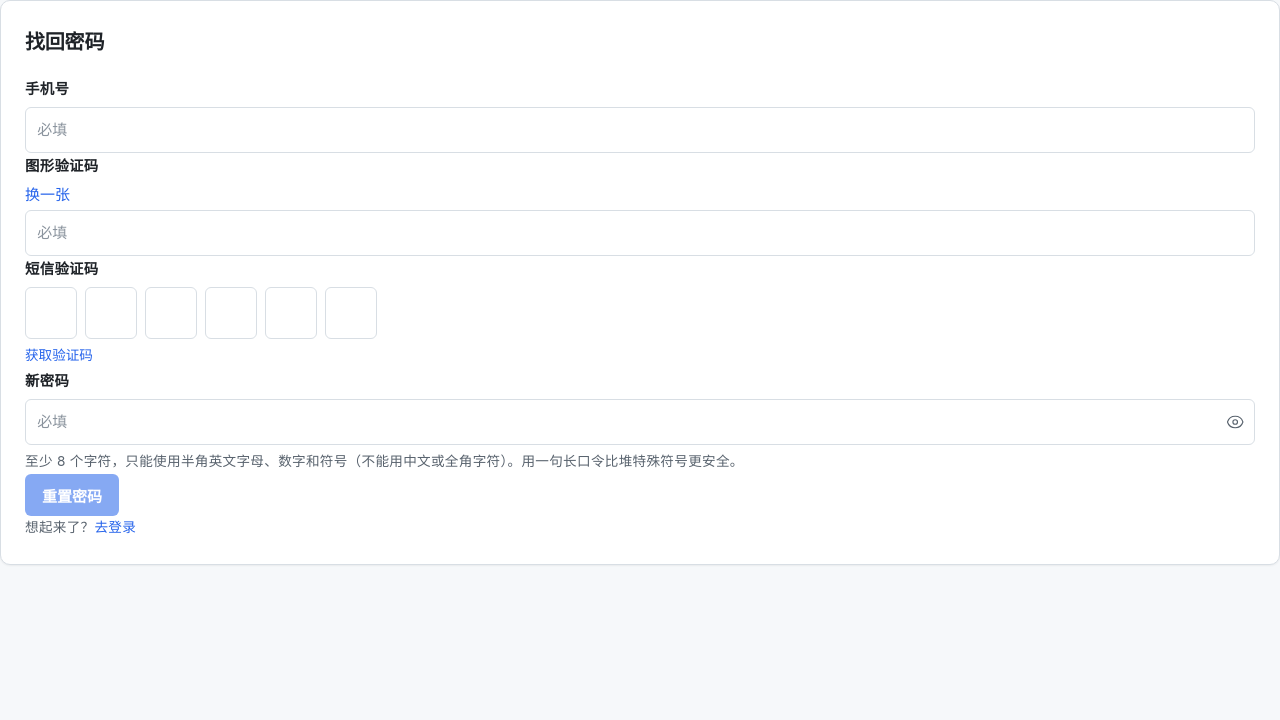
it: the reset page › leaves the reset button shut when the send was refused
In the field labelled "手机号": x=640, y=130 [25,107,1255,153], type "13800138000"
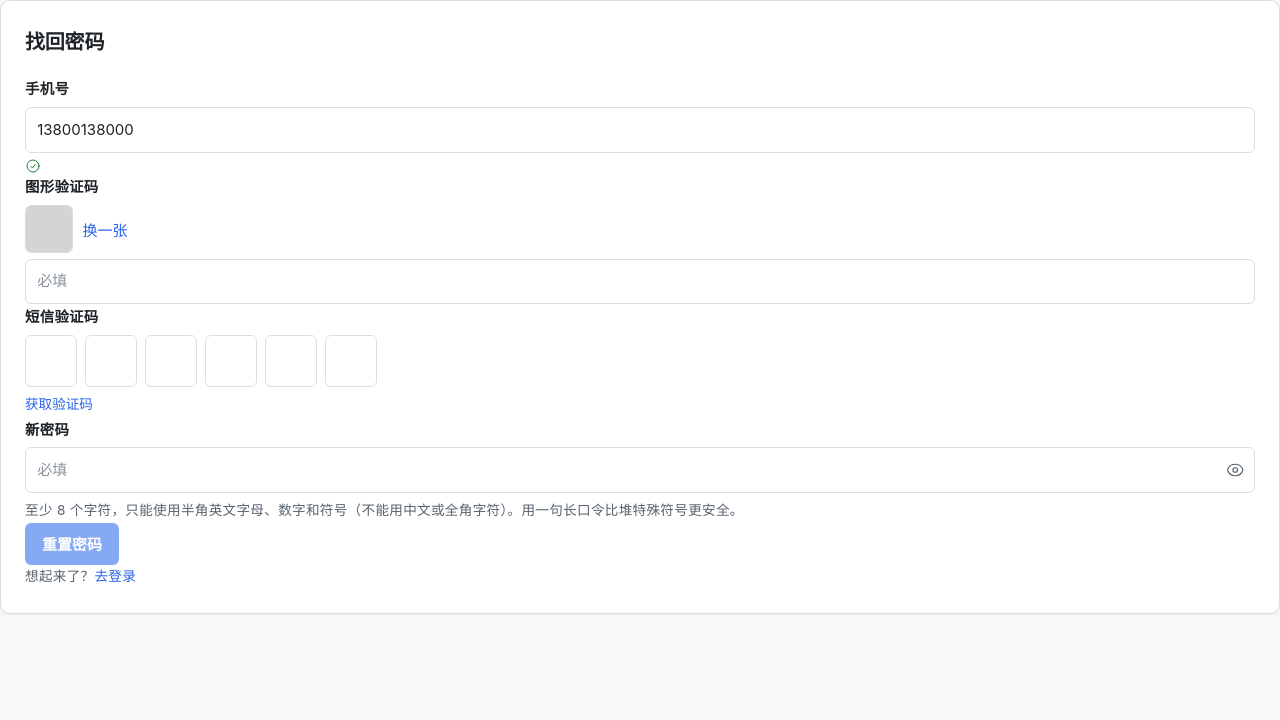
In the field with id "captcha": x=640, y=282 [25,259,1255,304], type "TEST"
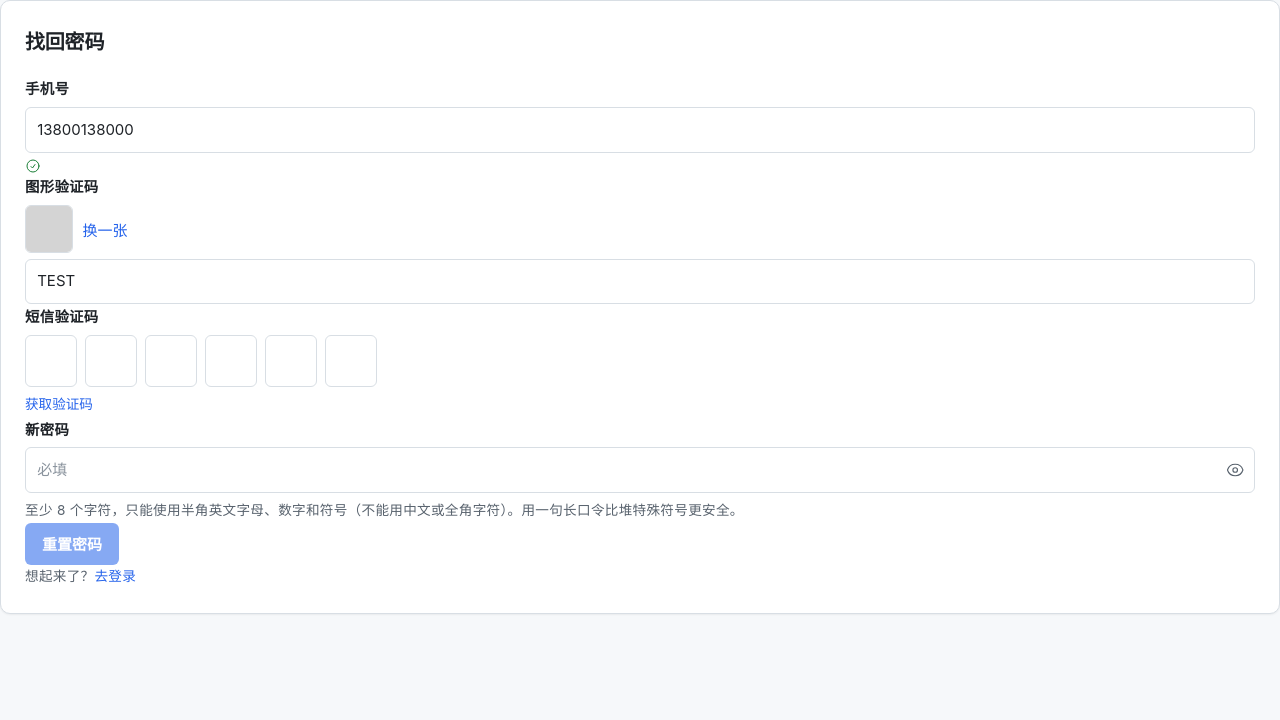
Click the button with class "resend": x=59, y=403 [25,393,93,413]
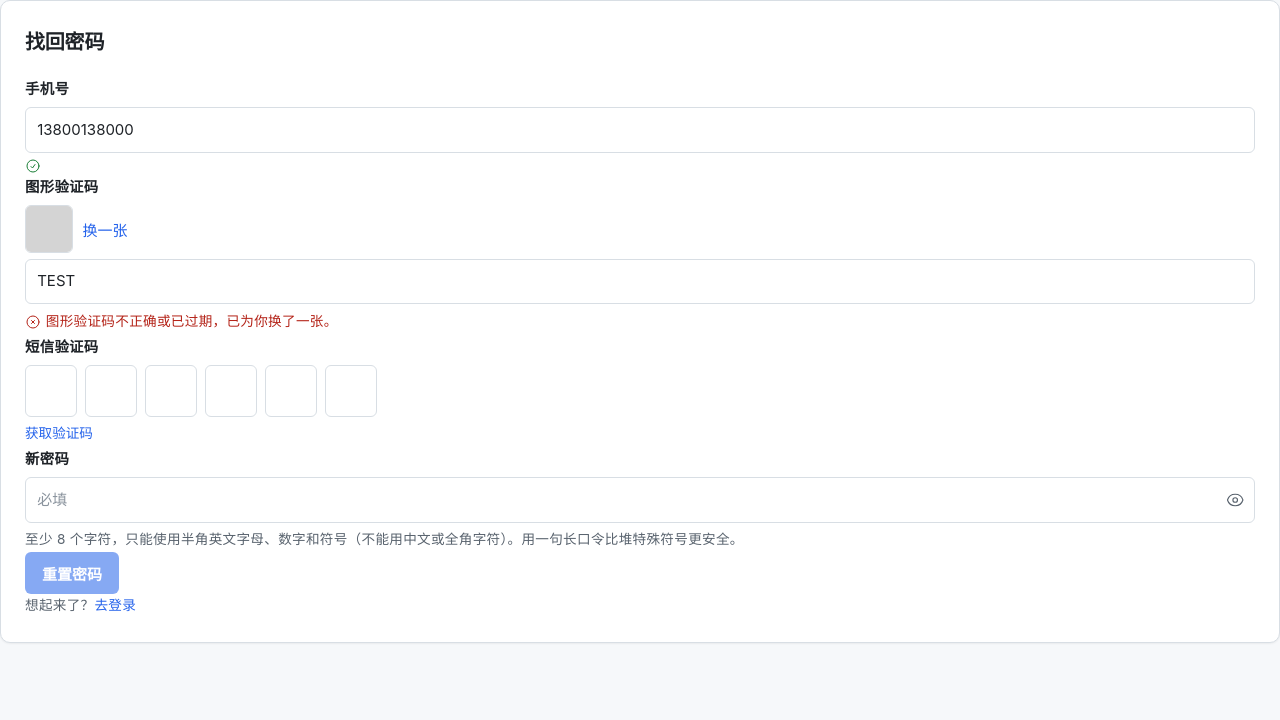
Expected: the submit button is disabled, [25,552,119,594]
Result: the text "图形验证码不正确或已过期" is shown at [46,313,338,329]
